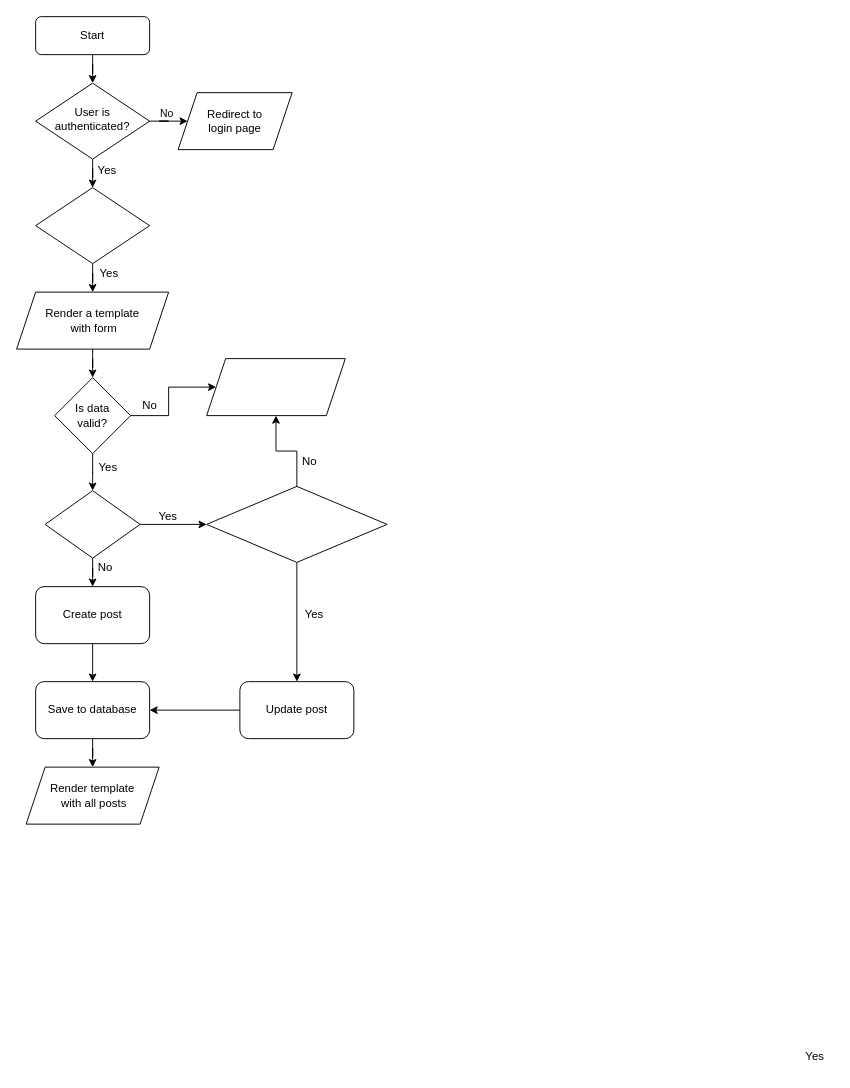
This 850x1088 diagram has some shape labels left out. Here are the shapes that lost their labels. From the top down, the centre of each, then its label:
pixel 92 225: User can create posts
pixel 275 387: Raise proper error messages
pixel 92 524: Post with title exists
pixel 296 523: Post's author mathes current user
